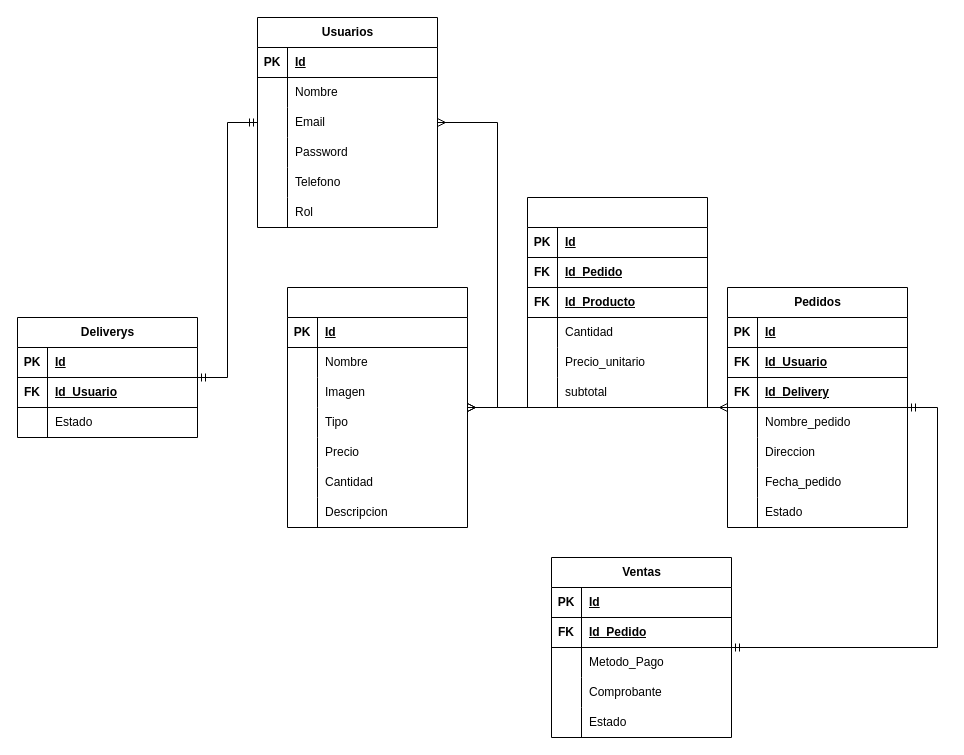
Some shapes in this 964 by 755 pixel diagram are drawn without their labels. Each missing label, with the box of its shape:
Detalle_Pedidos: (526, 196, 708, 408)
Productos: (286, 286, 468, 528)
